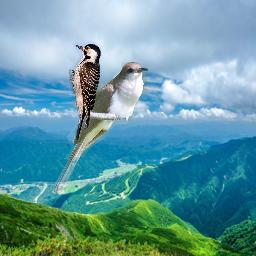Cuckoo: (51, 62, 148, 195)
Woodpecker: (69, 41, 102, 144)
